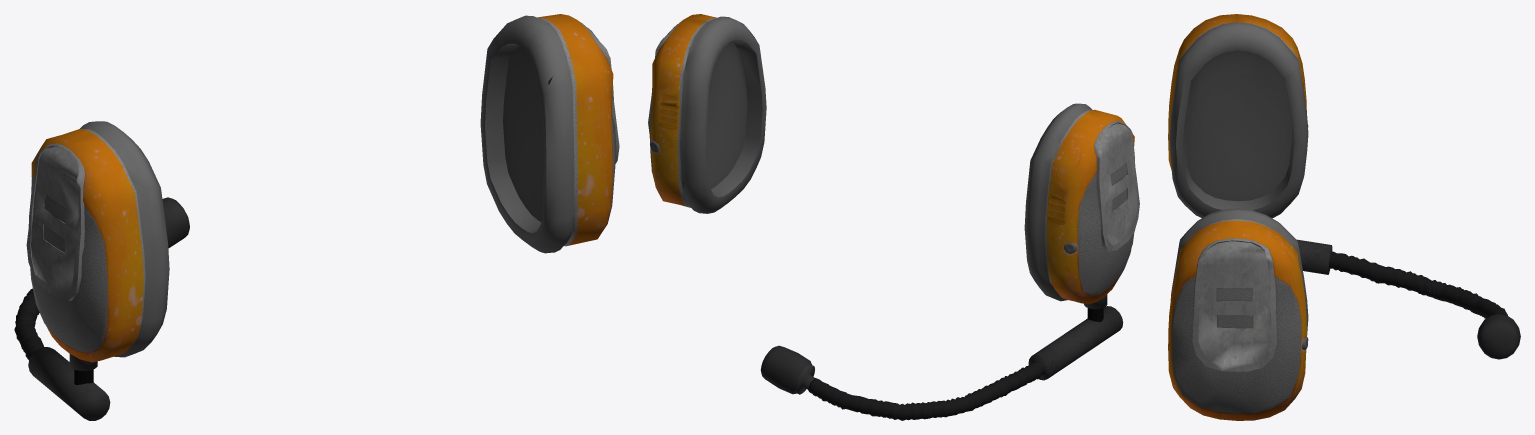
The model's file is heavy-headphones.glb.
The picture shows the model from 3 angles, left to right: view 1: azimuth 30°, elevation 25°; view 2: azimuth 150°, elevation 25°; view 3: azimuth 270°, elevation 25°; orthographic projection. The views are drawn at different scales.
Parts seen in each view (by area): view 1: Plane.012; view 2: Plane.012; view 3: Plane.012.
Boxes of the visible parts, x1,y1,x2,y2 form: Plane.012: [14, 14, 619, 420]; Plane.012: [648, 14, 1139, 420]; Plane.012: [1168, 14, 1520, 420].
Bounding box in the file's own units: 1.44 × 0.736 × 0.898.
1 material, 1 textured.
